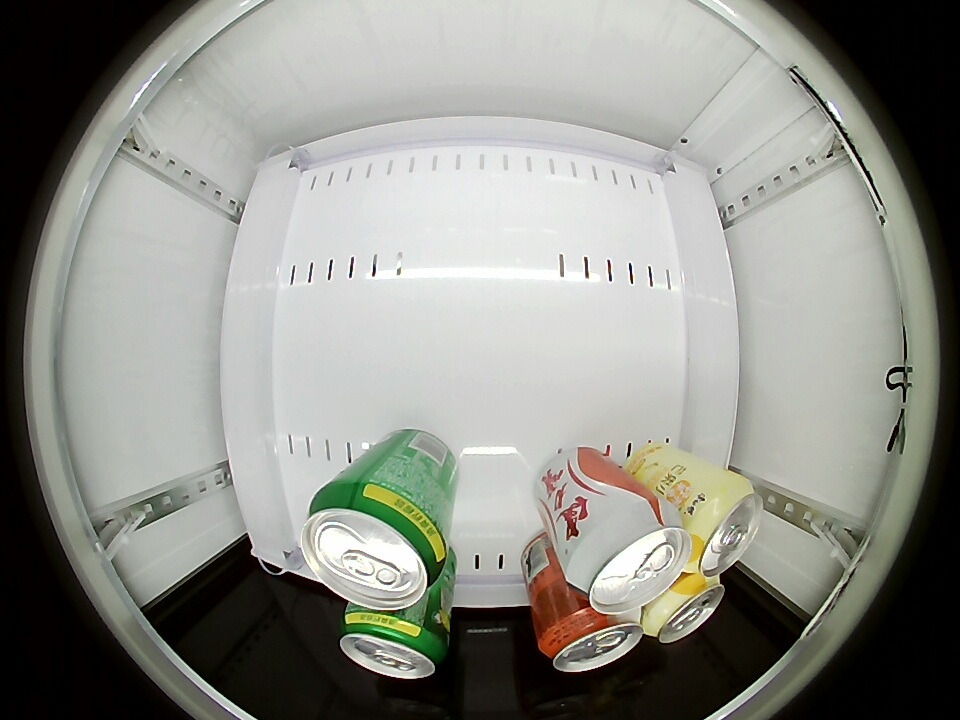jianlibao: (565, 500, 692, 617), (539, 607, 643, 672)
mangguoxiaolao: (684, 477, 763, 578), (643, 574, 726, 644)
xuebi2: (301, 481, 449, 610), (340, 609, 450, 678)
